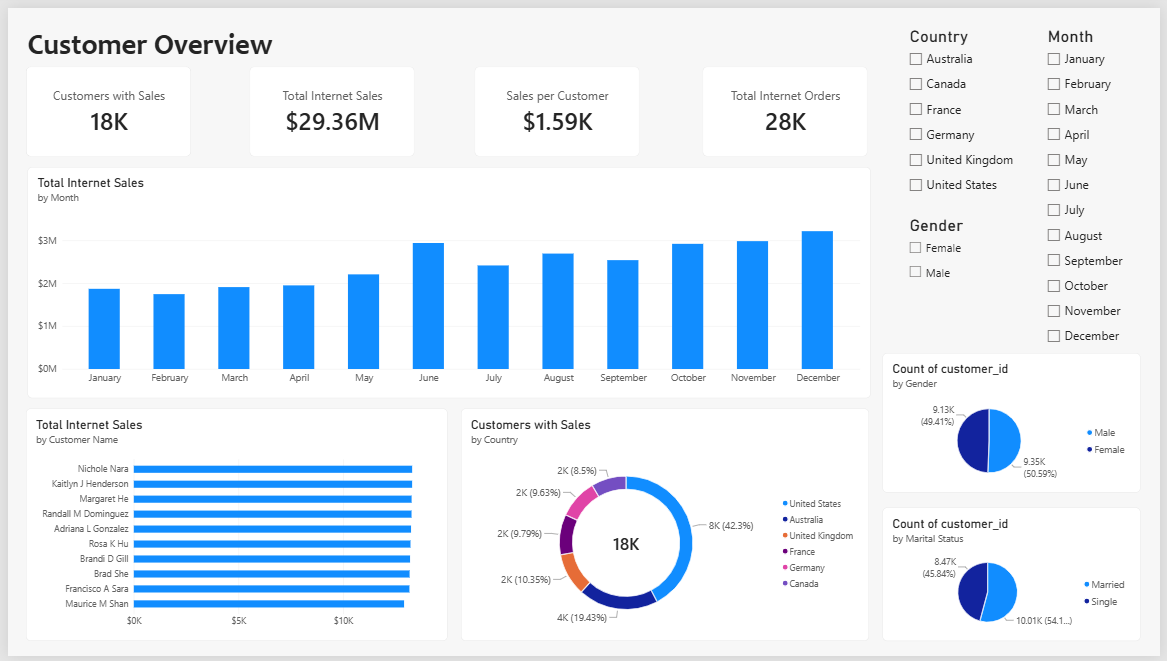

What the dashboard file says about the page in this screenshot:
{"tool":"powerbi","page":{"name":"Customer Overview","canvas":[1920,1080],"ordinal":0},"visuals":[{"type":"textbox","box":[32.5,30,425,60],"z":0},{"type":"cardVisual","fields":{"Data":["_measure (internet).Customers with Sales"]},"box":[29.2,97.5,275,150],"z":1000},{"type":"clusteredColumnChart","fields":{"Category":["fact_internet_sales.order_date.Variation.Date Hierarchy.Month"],"Y":["_measure (internet).Total Internet Sales"]},"box":[32.5,265,1405,385],"z":2000},{"type":"clusteredBarChart","fields":{"Category":["dim_customer.customer_name"],"Y":["_measure (internet).Total Internet Sales"]},"box":[30,667.5,702.5,387.5],"z":3000},{"type":"donutChart","fields":{"Category":["dim_geography.country"],"Y":["_measure (internet).Customers with Sales"]},"box":[755,667.5,680,387.5],"z":4000},{"type":"cardVisual","fields":{"Data":["_measure (internet).Total Internet Sales"]},"box":[401.7,97.5,275,150],"z":5000},{"type":"cardVisual","fields":{"Data":["_measure (internet).Sales per Customer"]},"box":[776.7,97.5,275,150],"z":6000},{"type":"cardVisual","fields":{"Data":["_measure (internet).Total Internet Orders"]},"box":[1156.7,97.5,275,150],"z":7000},{"type":"slicer","fields":{"Values":["dim_geography.country"]},"box":[1495,30,207.5,315],"z":8000},{"type":"slicer","fields":{"Values":["dim_date.month_name"]},"box":[1725,30,162.5,545],"z":9000},{"type":"slicer","fields":{"Values":["dim_customer.gender"]},"box":[1495,345,180,195],"z":10000},{"type":"pieChart","fields":{"Category":["dim_customer.gender"],"Y":["Count(dim_customer.customer_id)"]},"box":[1457.5,575,430,232.5],"z":11000},{"type":"pieChart","fields":{"Category":["dim_customer.marital_status"],"Y":["Count(dim_customer.customer_id)"]},"box":[1457.5,832.5,430,222.5],"z":12000}]}

Visuals, with their boxes in screenshot pixels (x1, y1, x2, y2), scaled from the page's 1920x1080 canvas onto the 1167x661 screenshot:
textbox: (20, 18, 278, 55)
cardVisual - _measure (internet).Customers with Sales: (18, 60, 185, 151)
clusteredColumnChart - fact_internet_sales.order_date.Variation.Date Hierarchy.Month x _measure (internet).Total Internet Sales: (20, 162, 874, 398)
clusteredBarChart - dim_customer.customer_name x _measure (internet).Total Internet Sales: (18, 409, 445, 646)
donutChart - dim_geography.country x _measure (internet).Customers with Sales: (459, 409, 872, 646)
cardVisual - _measure (internet).Total Internet Sales: (244, 60, 411, 151)
cardVisual - _measure (internet).Sales per Customer: (472, 60, 639, 151)
cardVisual - _measure (internet).Total Internet Orders: (703, 60, 870, 151)
slicer - dim_geography.country: (909, 18, 1035, 211)
slicer - dim_date.month_name: (1048, 18, 1147, 352)
slicer - dim_customer.gender: (909, 211, 1018, 330)
pieChart - dim_customer.gender x Count(dim_customer.customer_id): (886, 352, 1147, 494)
pieChart - dim_customer.marital_status x Count(dim_customer.customer_id): (886, 510, 1147, 646)
